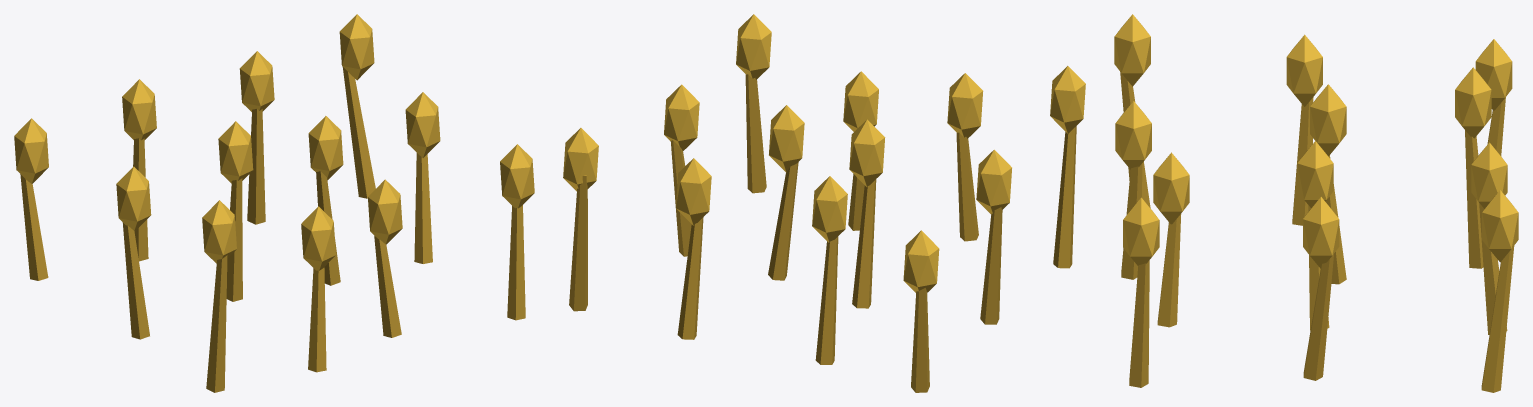
The model's file is wheat_patch.glb.
3 renders of one model, left to right at view 1: azimuth 30°, elevation 25°; view 2: azimuth 150°, elevation 25°; view 3: azimuth 270°, elevation 25°, orthographic. The views are drawn at different scales.
Visible parts, largest first — view 1: stalk, stalk.011, stalk.003, stalk.004, head.011, head.007, head.008, head.001, head.002, head.004, head.003, stalk.007 (+12 smaller); view 2: stalk, stalk.005, stalk.009, stalk.011, stalk.010, stalk.003, stalk.004, stalk.006, head.005, head, head.010, head.009 (+12 smaller); view 3: stalk.011, stalk.003, stalk.007, head.002, head.004, head.011, head, head.009, head.005, head.007, head.003, head.001 (+12 smaller).
Part boxes in pixels (<box>): stalk: <box>206,255,227,392</box>; stalk.011: <box>342,67,375,198</box>; stalk.003: <box>507,205,525,320</box>; stalk.004: <box>122,222,149,339</box>; head.011: <box>339,14,374,80</box>; head.007: <box>405,92,440,157</box>; head.008: <box>14,118,48,183</box>; head.001: <box>301,206,335,270</box>; head.002: <box>368,179,402,244</box>; head.004: <box>116,166,151,231</box>; head.003: <box>500,144,534,208</box>; stalk.007: <box>414,153,432,263</box>; stalk: <box>1053,126,1076,268</box>; stalk.005: <box>852,179,876,308</box>; stalk.009: <box>815,236,838,364</box>; stalk.011: <box>569,175,587,311</box>; stalk.010: <box>677,217,703,339</box>; stalk.003: <box>745,74,766,193</box>; stalk.004: <box>980,207,1002,324</box>; stalk.006: <box>768,162,798,280</box>; head.005: <box>849,119,885,186</box>; head: <box>1050,66,1085,133</box>; head.010: <box>676,158,711,225</box>; head.009: <box>812,176,847,242</box>; stalk.011: <box>1481,246,1514,392</box>; stalk.003: <box>1129,260,1149,387</box>; stalk.007: <box>1303,254,1333,380</box>; head.002: <box>1153,152,1189,224</box>; head.004: <box>1286,34,1322,106</box>; head.011: <box>1482,190,1518,262</box>; head: <box>1114,14,1150,86</box>; head.009: <box>1455,67,1491,138</box>; head.005: <box>1310,84,1346,156</box>; head.007: <box>1303,197,1339,268</box>; head.003: <box>1123,197,1159,265</box>; head.001: <box>1115,101,1151,169</box>.
Size of the model in its own units: 1.27 by 0.6497 by 1.13.
